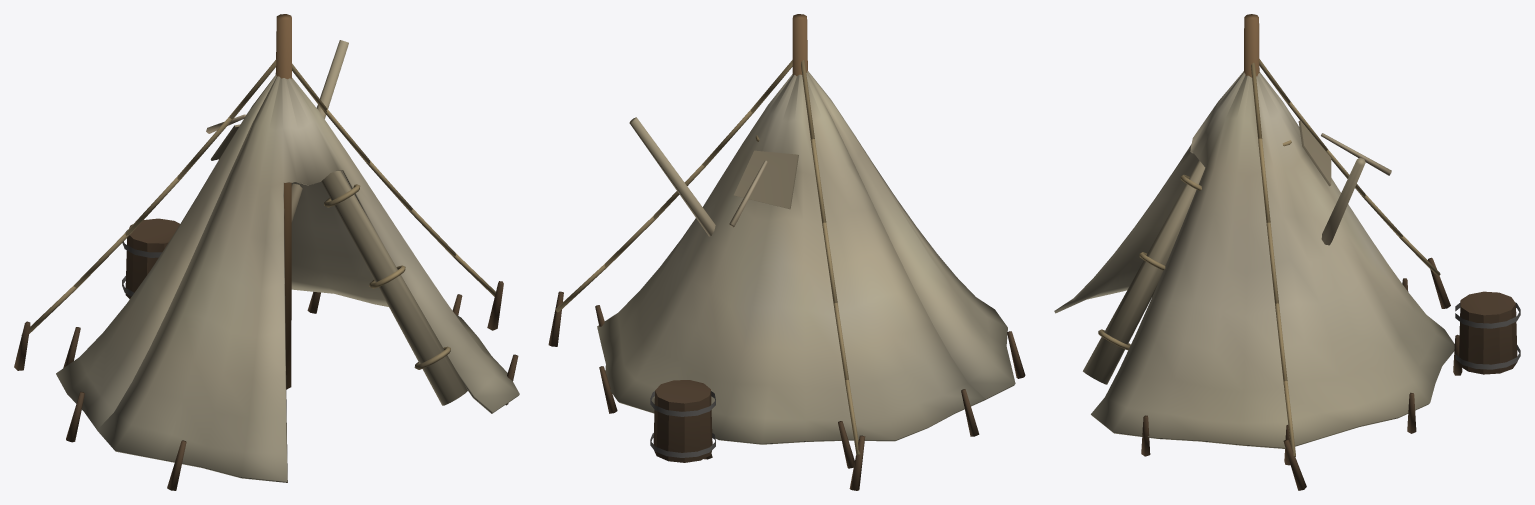
Rendered from tent_c.dd509225.glb.
The picture shows the model from 3 angles, left to right: view 1: azimuth 30°, elevation 25°; view 2: azimuth 150°, elevation 25°; view 3: azimuth 270°, elevation 25°; orthographic projection. The views are drawn at different scales.
Visible parts, largest first — view 1: tent_c; view 2: tent_c; view 3: tent_c.
Boxes of the visible parts, x1,y1,x2,y2 form: tent_c: [14, 14, 519, 490]; tent_c: [548, 14, 1025, 490]; tent_c: [1054, 14, 1520, 490].
Size of the model in its own units: 2.98 by 2.49 by 2.89.
